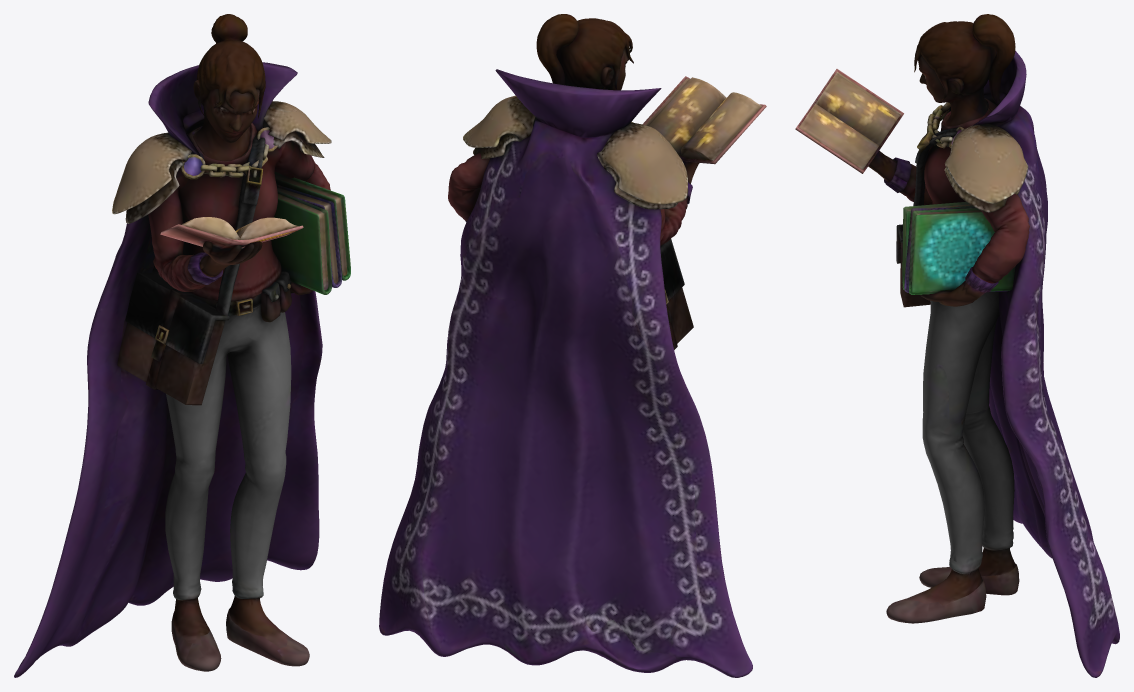
File: MZ4250 - Human Female Transmutation Wizard_2.glb
The picture shows the model from 3 angles, left to right: view 1: azimuth 30°, elevation 25°; view 2: azimuth 150°, elevation 25°; view 3: azimuth 270°, elevation 25°; orthographic projection. The views are drawn at different scales.
Parts seen in each view (by area): view 1: Body.002; view 2: Body.002; view 3: Body.002.
Boxes of the visible parts, box(x1,y1,x2,y2) form: Body.002: box(14, 14, 350, 677); Body.002: box(379, 14, 766, 677); Body.002: box(795, 14, 1119, 677).
Size of the model in its own units: 0.5512 by 0.9634 by 0.4717.
1 material, 1 textured.
